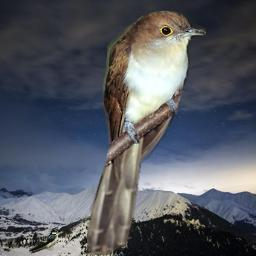Cuckoo: (87, 9, 206, 255)
Swallow: (29, 228, 58, 254)
